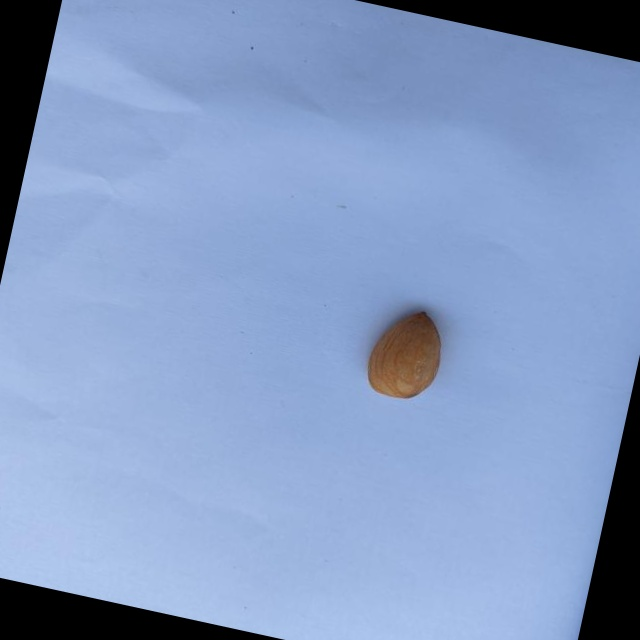grade2: (355, 298, 454, 409)
